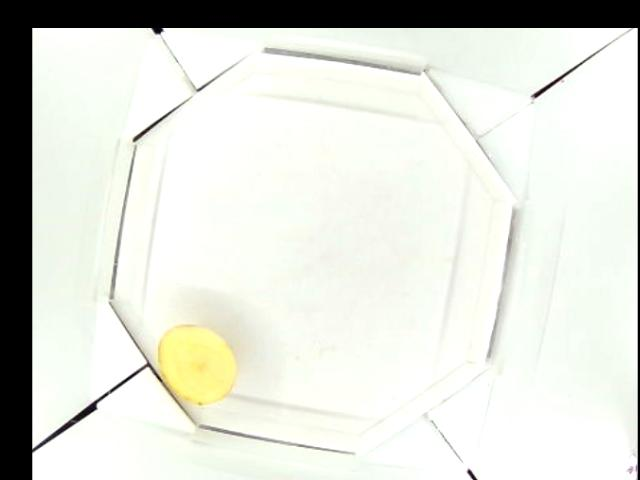Potato: (158, 324, 234, 399)
